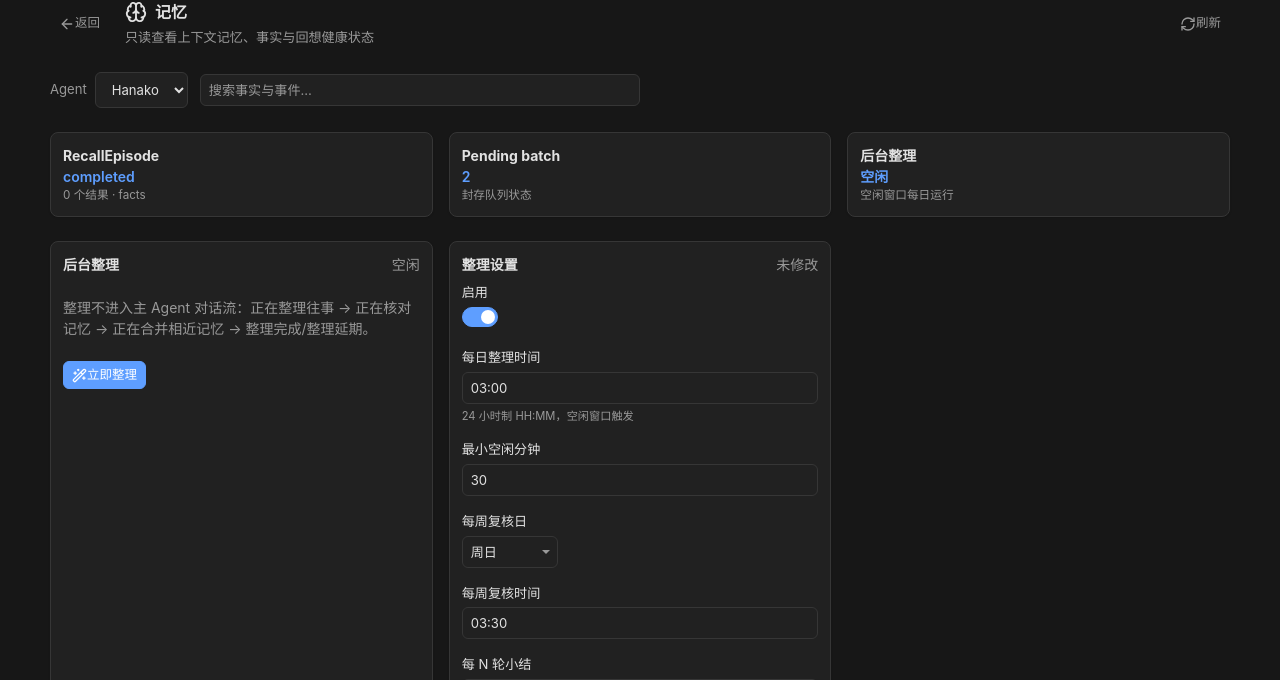
Scenario: MemoryPage › loads and saves per-agent memory settings
This screenshot has width=1280, height=680.
Type "05:00" into the field labelled "每日整理时间".
click(640, 388); type("05:00")  # box [462,372,818,404]
(page scrolled)
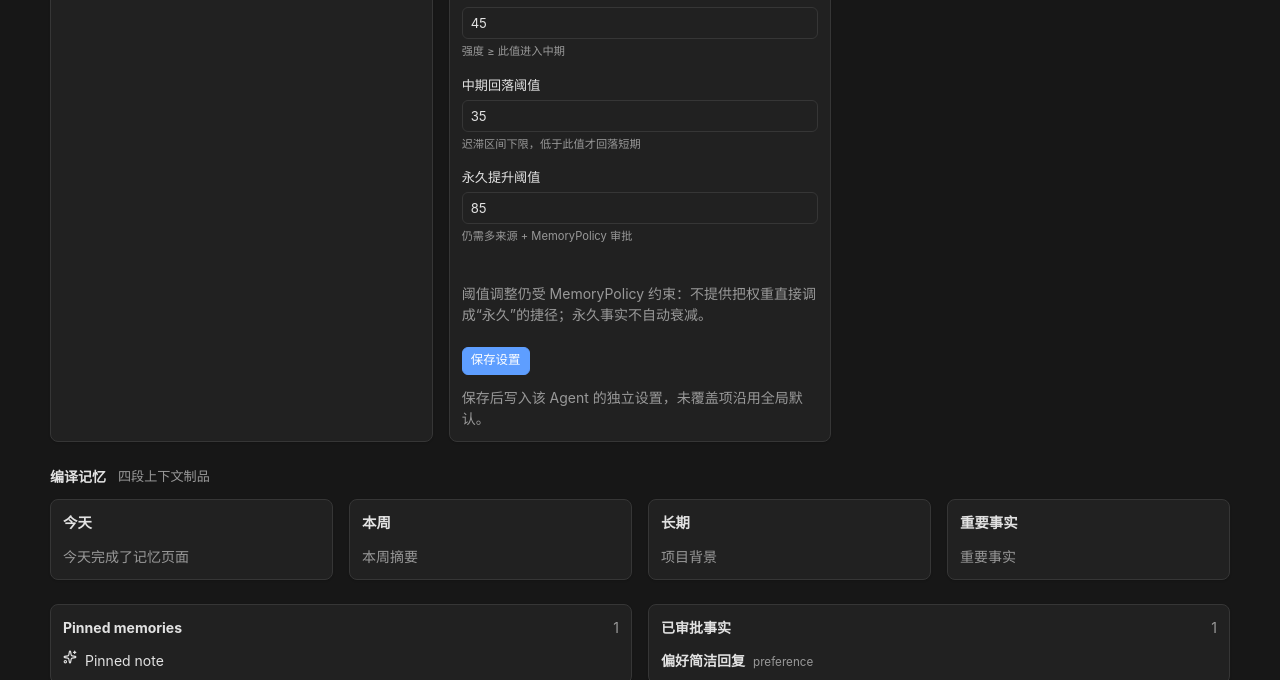
Click the button "保存设置".
click(496, 361)  # box [462,347,530,375]
(page scrolled)
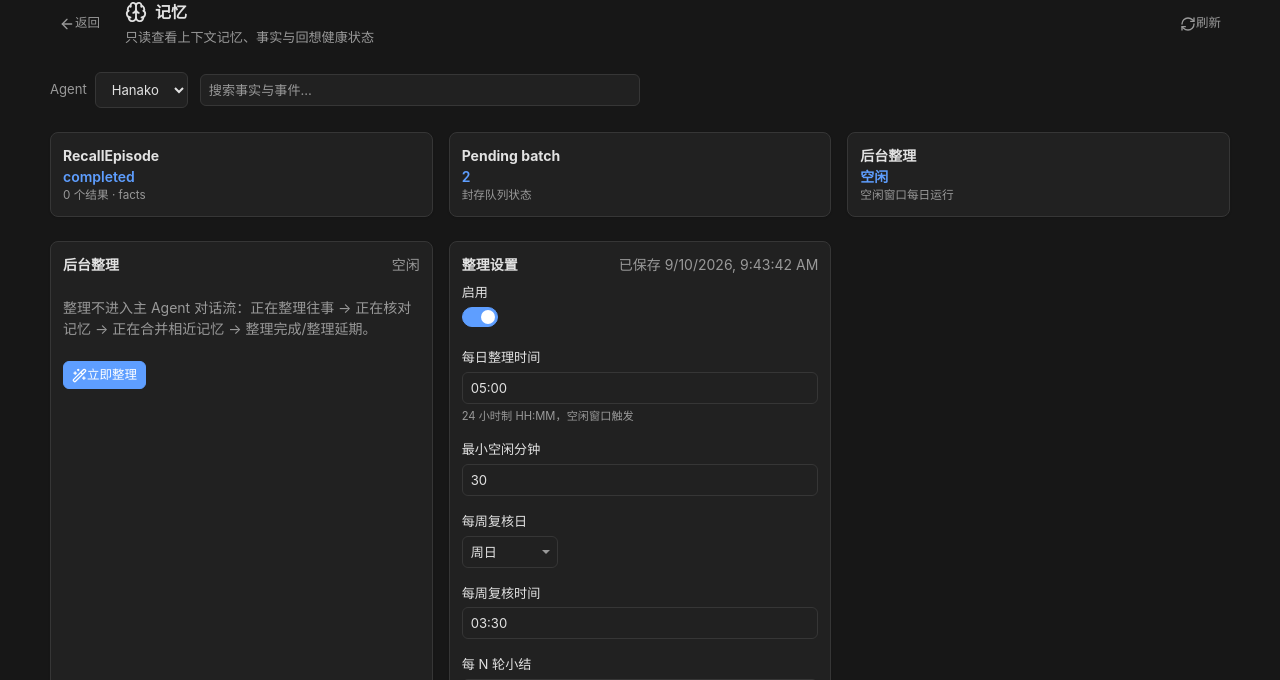
Result: the text "已保存 9/10/2026, 9:43:42 AM" is shown at [619,254,818,275]
